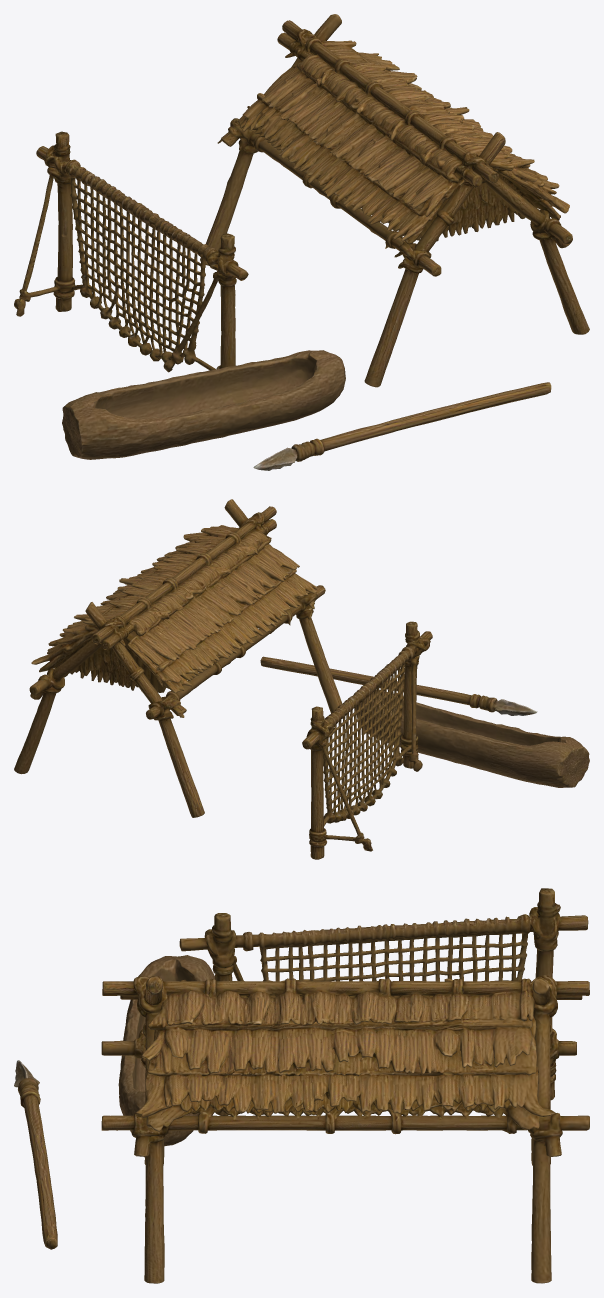
Rendered from Fishing Post (East Asian).fbx.
3 views of the same model, one above another, from view 1: azimuth 30°, elevation 25°; view 2: azimuth 150°, elevation 25°; view 3: azimuth 270°, elevation 25° (orthographic). The views are drawn at different scales.
Parts seen in each view (by area): view 1: tripo_node_db4b0111; view 2: tripo_node_db4b0111; view 3: tripo_node_db4b0111.
Boxes of the visible parts, left/top/right/bottom form: tripo_node_db4b0111: left=14, top=14, right=589, bottom=470; tripo_node_db4b0111: left=14, top=499, right=589, bottom=859; tripo_node_db4b0111: left=14, top=888, right=589, bottom=1283.
Bounding box in the file's own units: 1 × 0.439 × 0.8326.
